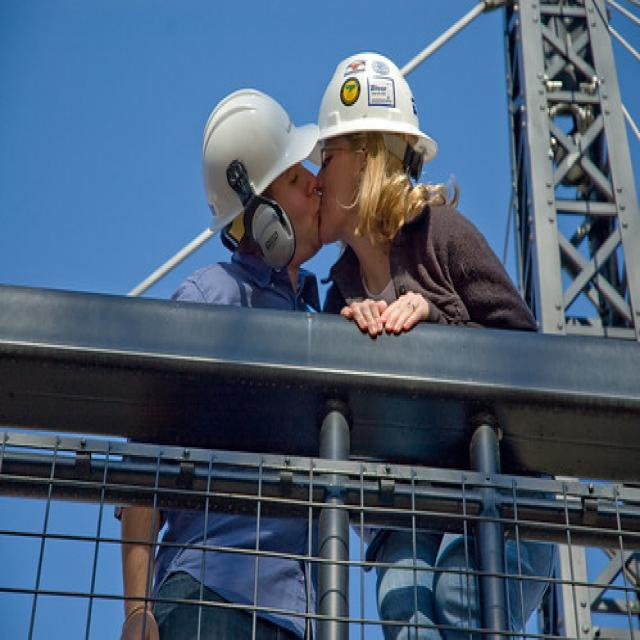Safety-Helmet: (195, 87, 315, 229), (313, 42, 433, 152)
